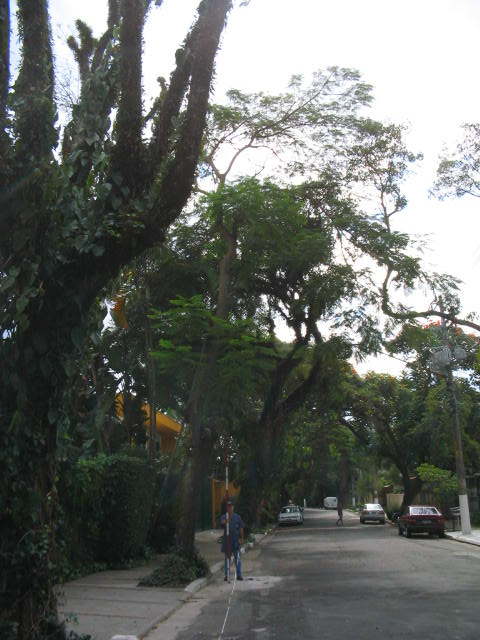crown: (153, 183, 356, 408)
stem: (158, 448, 217, 579)
stick: (222, 442, 233, 583)
tree: (147, 179, 358, 587)
